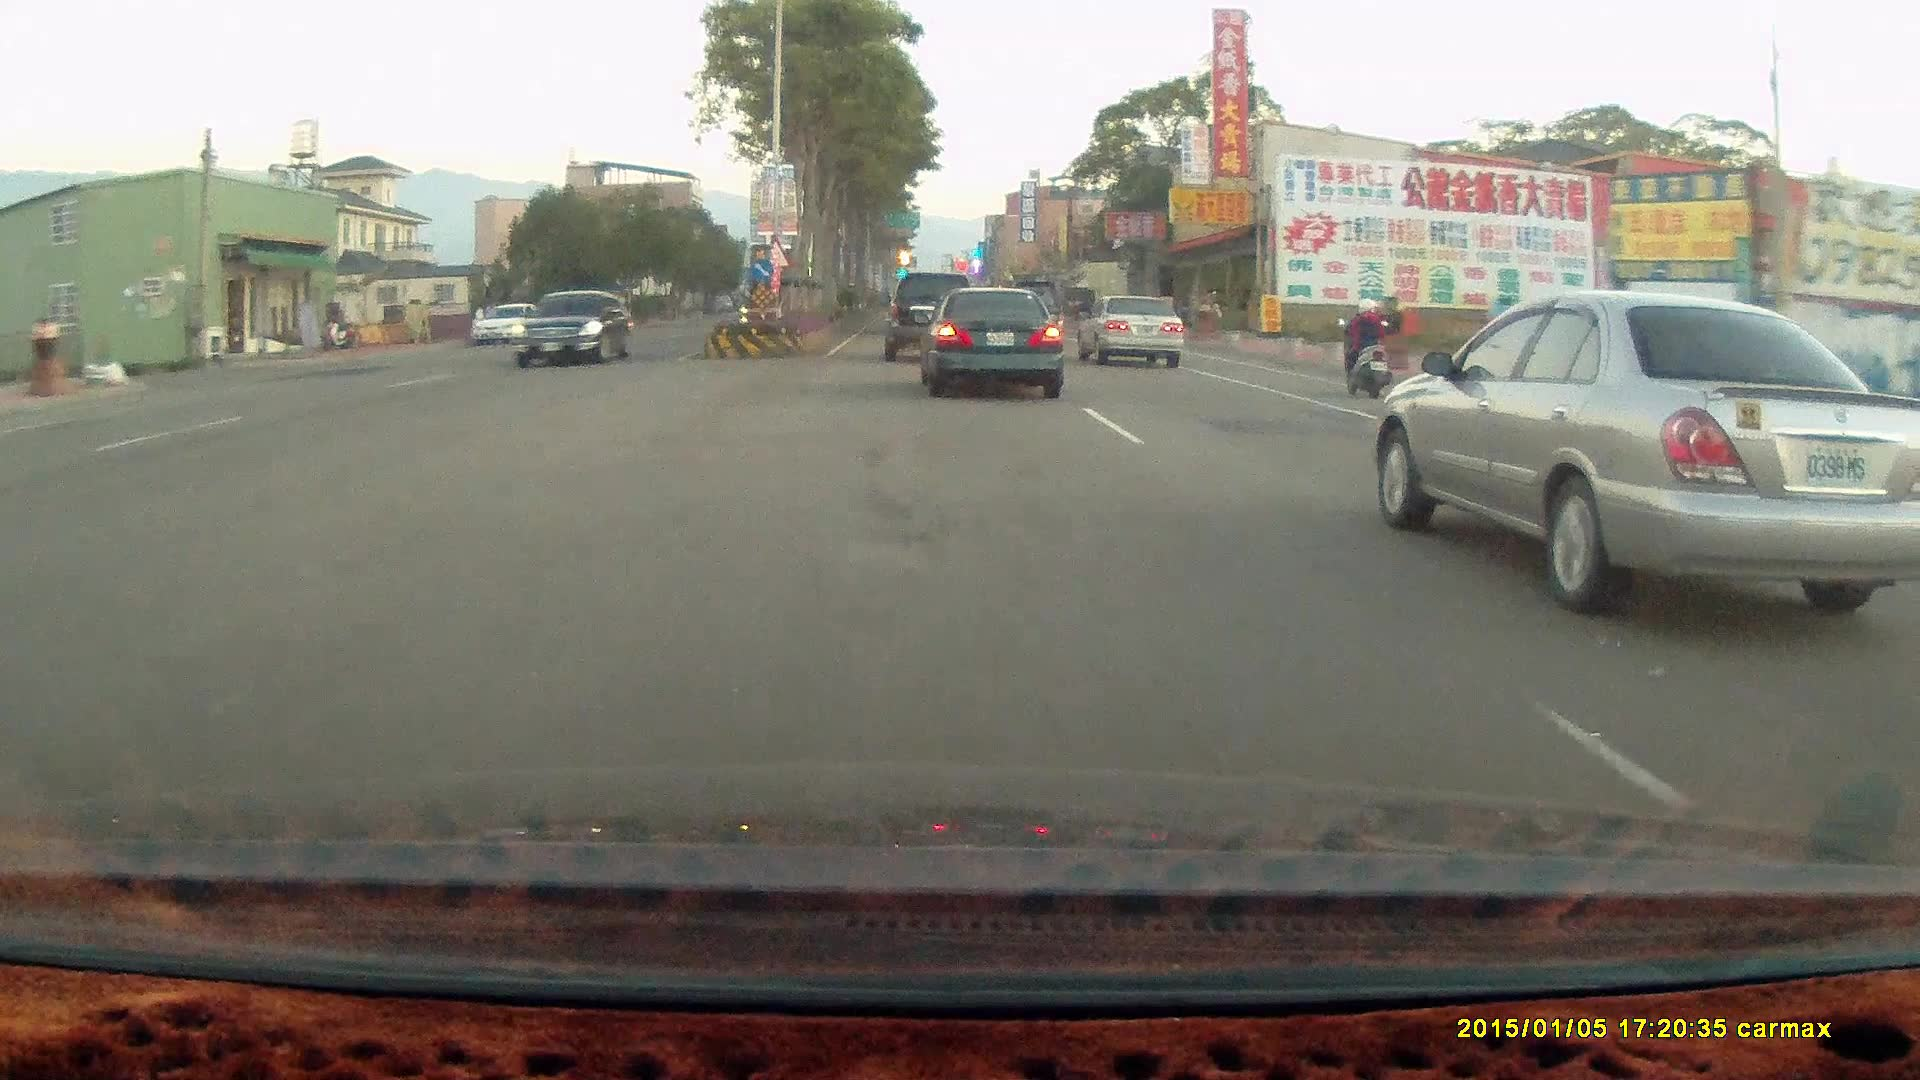rider: (1331, 287, 1404, 407), (1339, 295, 1391, 397)
vehicle: (1371, 288, 1920, 608), (922, 285, 1068, 402), (912, 283, 1063, 397), (515, 290, 635, 370), (882, 270, 981, 368), (512, 289, 631, 367), (882, 271, 975, 361), (1076, 290, 1184, 367), (1080, 295, 1188, 367), (470, 305, 552, 351), (470, 300, 551, 343)
